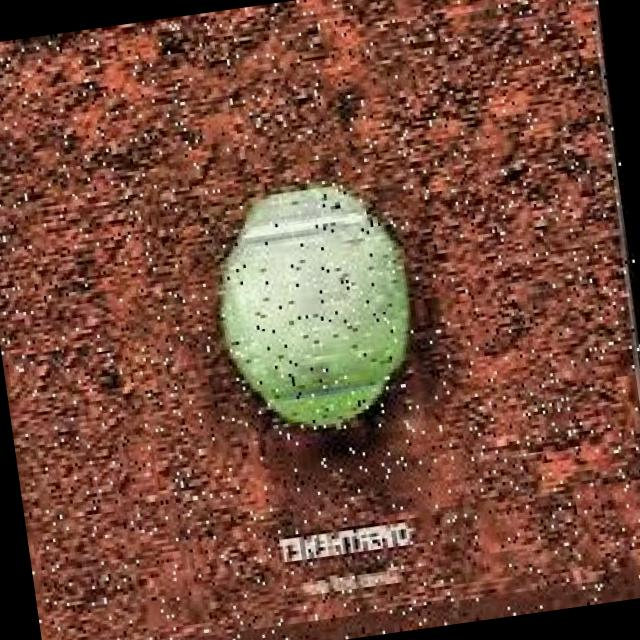Tennis Ball: (201, 179, 434, 462)
